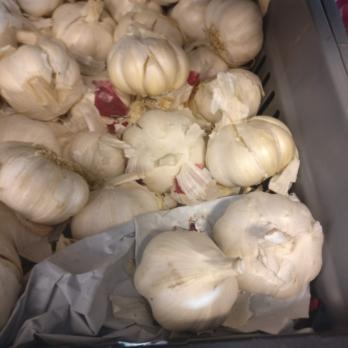Garlic: (0, 0, 321, 348)
